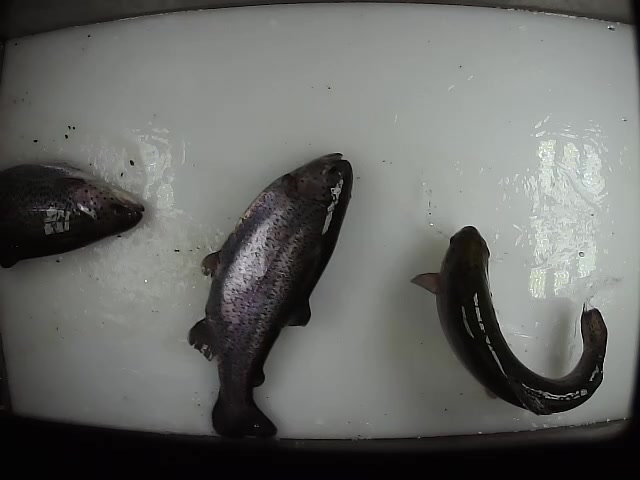fish: (186, 150, 356, 440), (410, 223, 611, 417), (1, 158, 146, 271)
